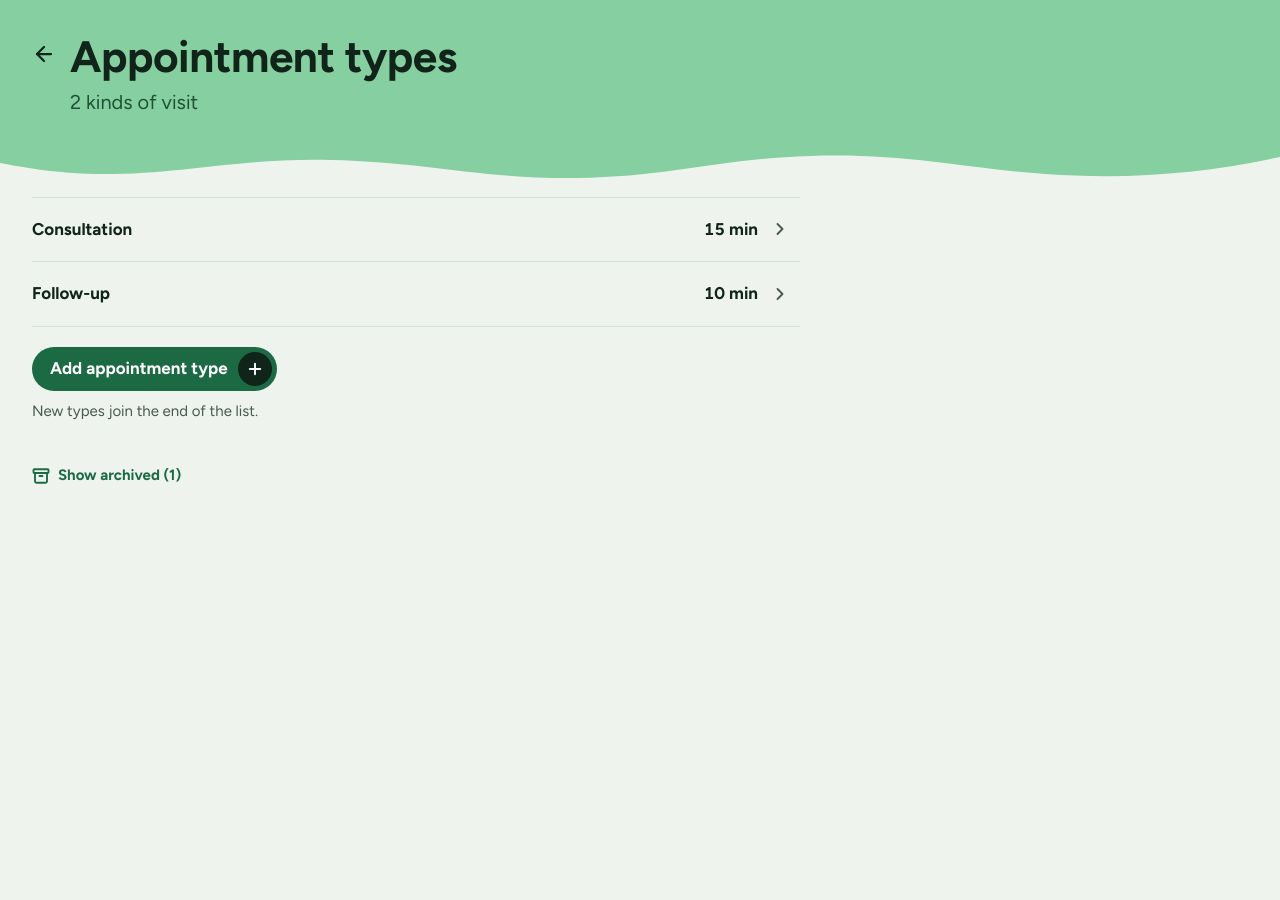
Scenario: AppointmentTypes (plan §9, D32, D81) › opens a type's sheet to change it, and an empty one to add one
Click the button "Follow-up". click: click(71, 293)
box: [32,281,692,306]
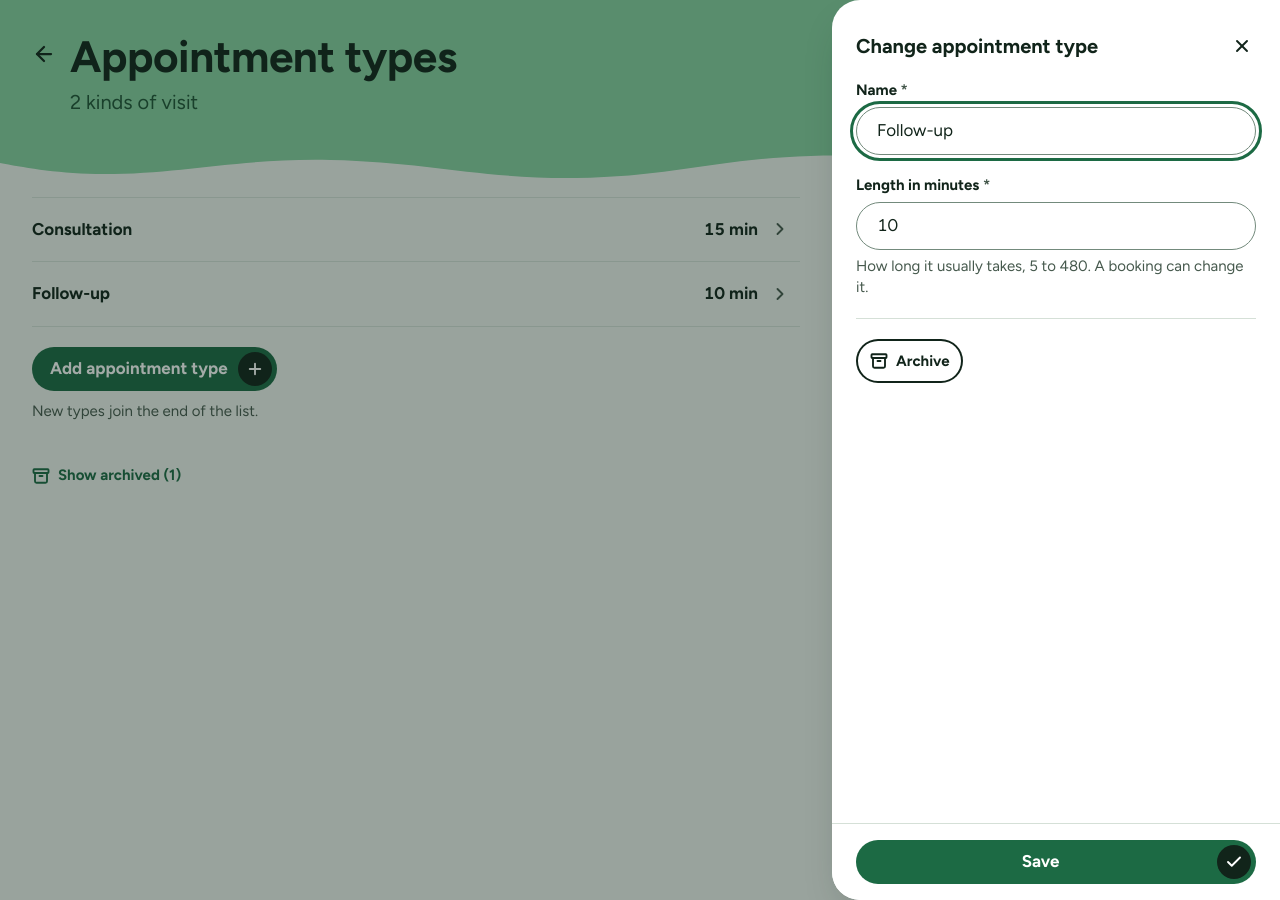
Check: the field labelled "Length in minutes *" holds "10", box [856,202,1256,250]
Click the button named "Close". click: click(1242, 46)
box: [1220,24,1264,68]
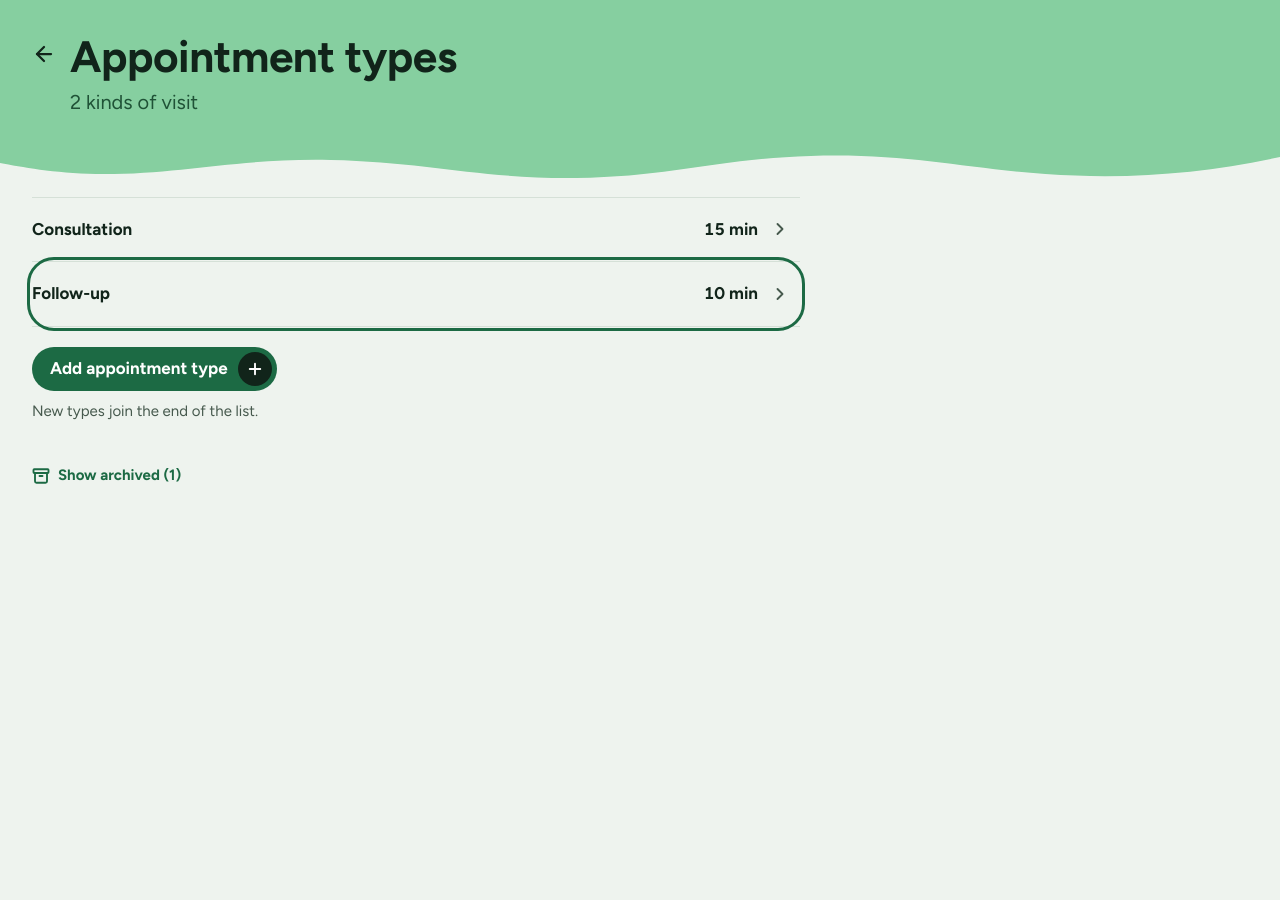
Click the button "Add appointment type". click: click(154, 369)
box: [32,347,277,391]
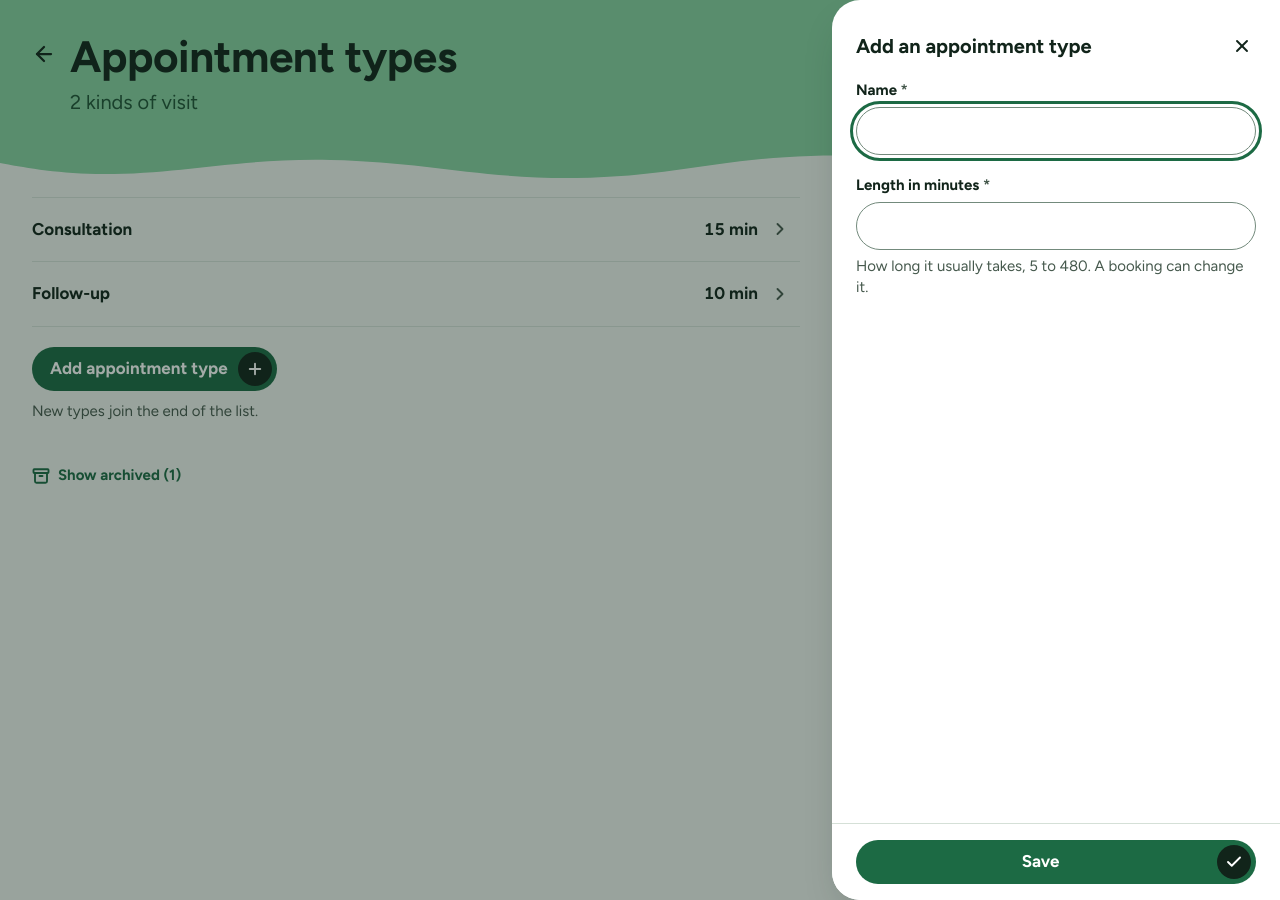
Check: the dialog "Add an appointment type" is shown, box [832,0,1279,899]
